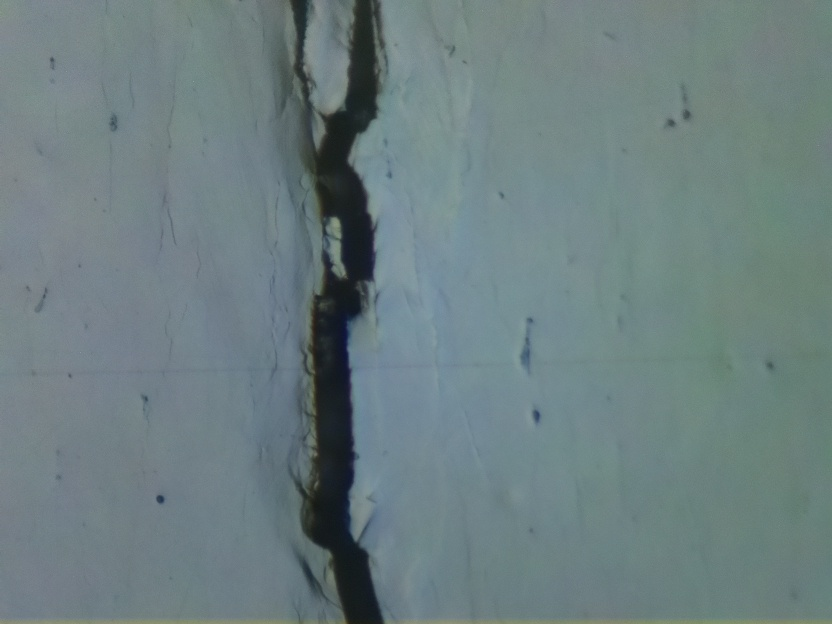crack: (294, 0, 402, 624)
